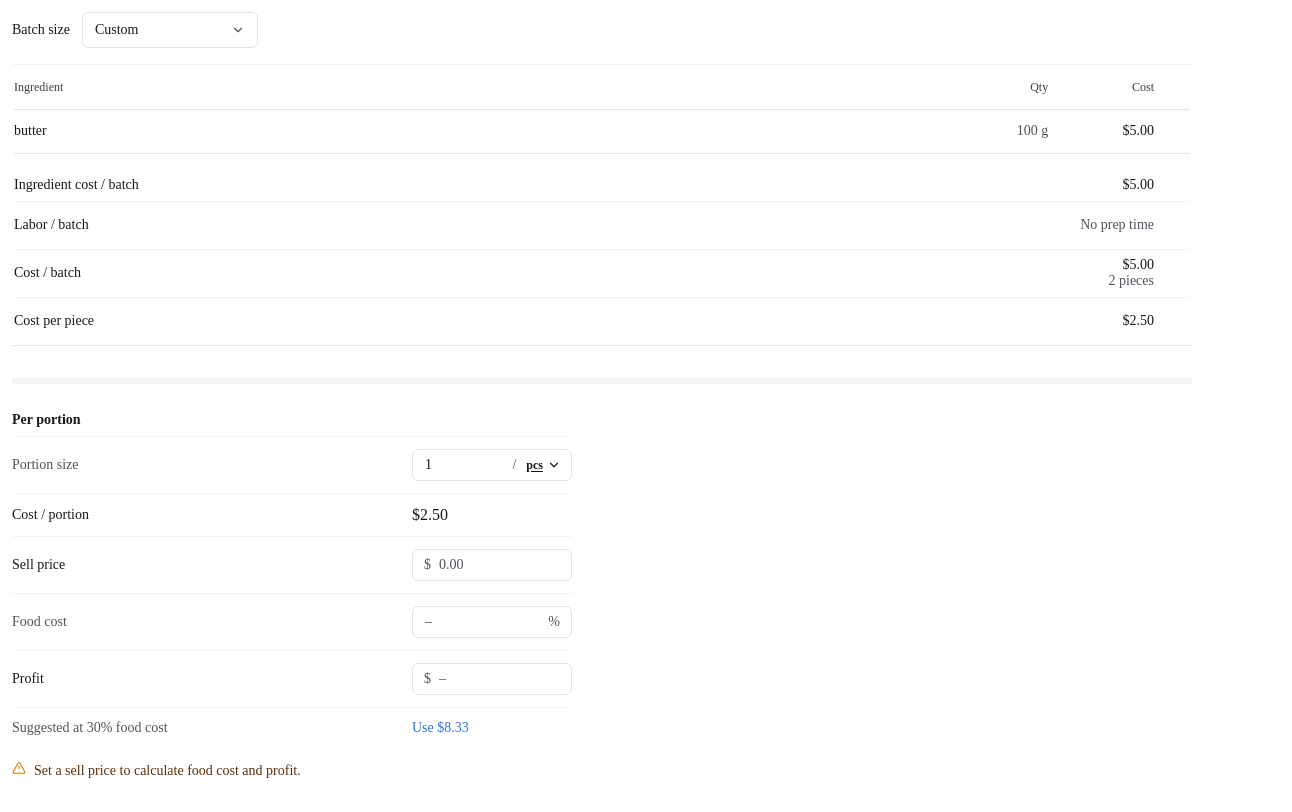
Test case: the food cost calculator › previews food cost and profit from the price being typed
The width and height of the screenshot is (1292, 812).
Expected: the text "Set a sell price to calculate food cost and profit." is shown, [34,760,301,782]
Type "10" into the number field named "Sell price" at (492, 565), box [412,549,572,581]
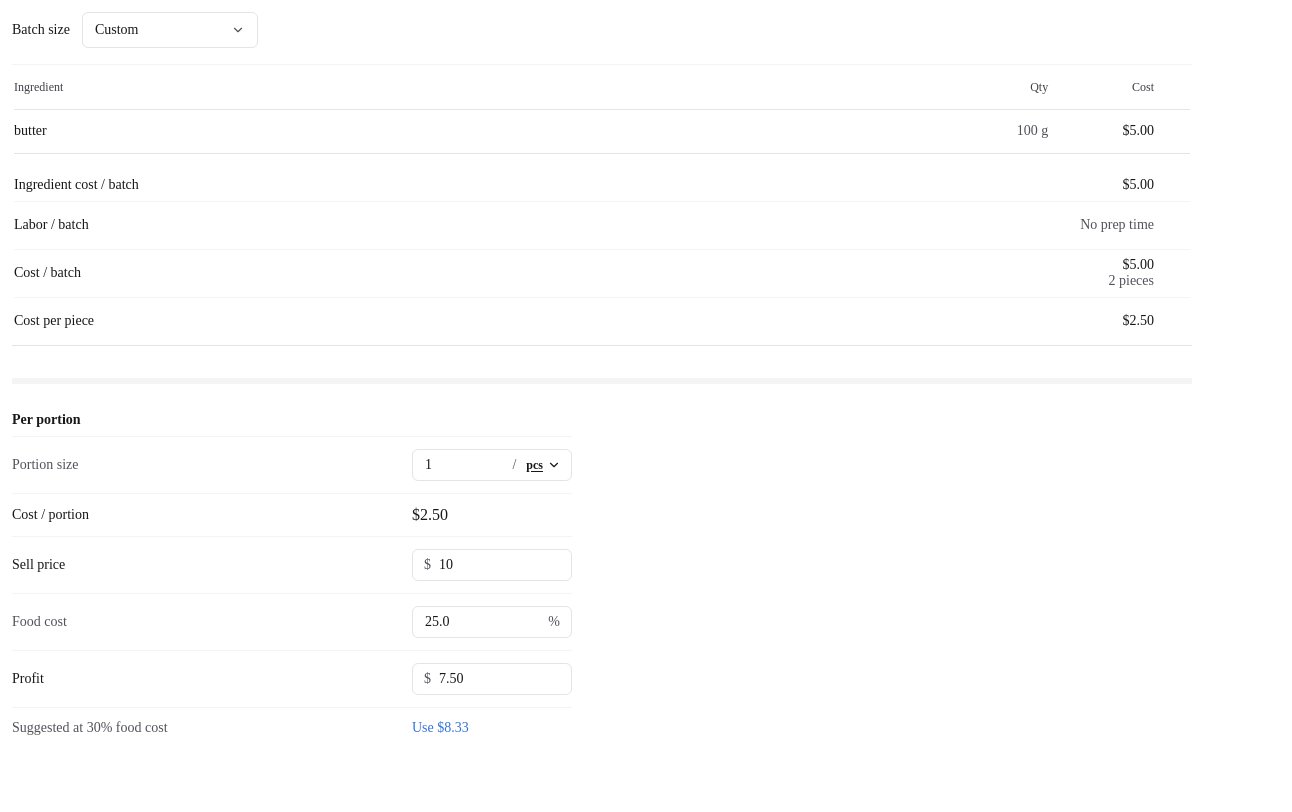
Expected: the text "Set a sell price to calculate food cost and profit." is gone
